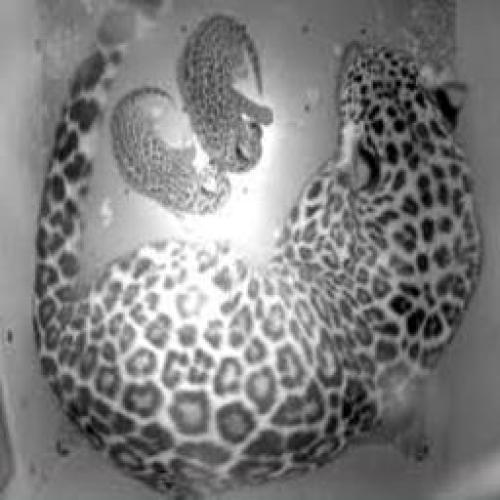amur_leopard-endangered: (239, 41, 481, 464), (175, 14, 279, 172), (109, 88, 230, 216)
